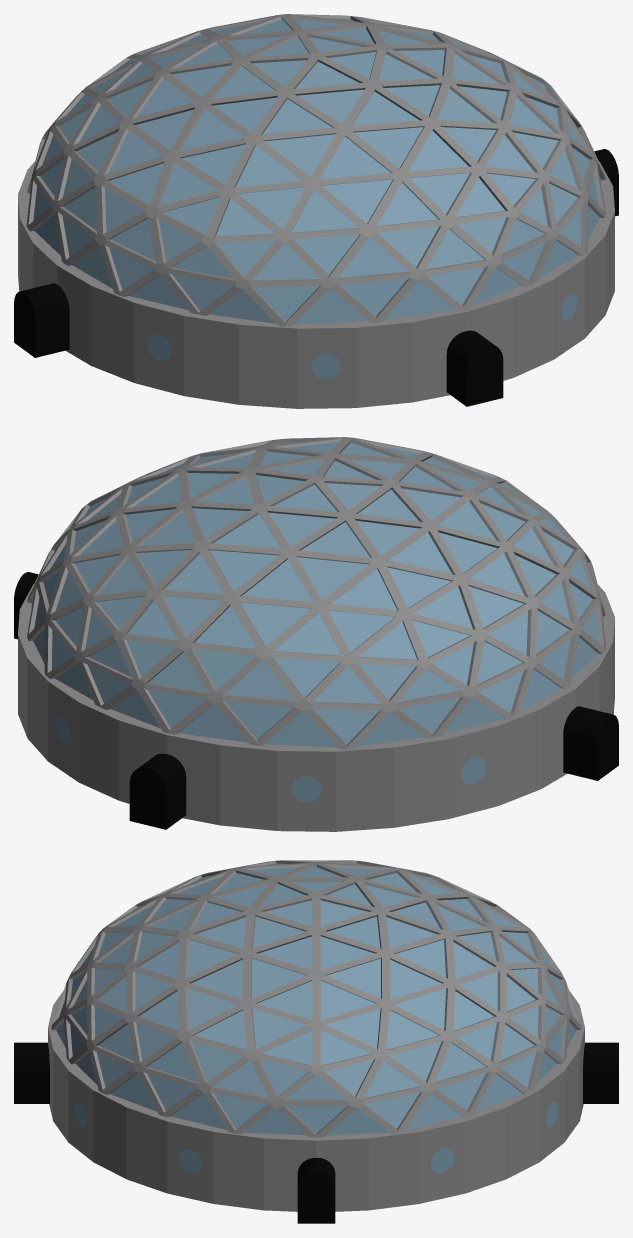
File: hab large 2.fbx
3 renders of one model, top to bottom at view 1: azimuth 30°, elevation 25°; view 2: azimuth 150°, elevation 25°; view 3: azimuth 270°, elevation 25°, orthographic. The views are drawn at different scales.
Visible parts, largest first — view 1: Dome glass, Dome frame, Cylinder, Cylinder.004, Cylinder.002, Cylinder.003; view 2: Dome glass, Dome frame, Cylinder, Cylinder.001, Cylinder.002, Cylinder.003; view 3: Dome glass, Dome frame, Cylinder, Cylinder.003, Cylinder.001, Cylinder.004.
Part boxes in pixels (left/top/right/bottom): Dome glass: left=33, top=18, right=601, bottom=324; Dome frame: left=26, top=14, right=605, bottom=326; Cylinder: left=18, top=161, right=614, bottom=408; Cylinder.004: left=446, top=330, right=503, bottom=406; Cylinder.002: left=14, top=283, right=69, bottom=357; Cylinder.003: left=594, top=149, right=618, bottom=216; Dome glass: left=31, top=441, right=599, bottom=747; Dome frame: left=27, top=437, right=606, bottom=749; Cylinder: left=18, top=584, right=614, bottom=831; Cylinder.001: left=129, top=753, right=186, bottom=829; Cylinder.002: left=563, top=706, right=618, bottom=780; Cylinder.003: left=14, top=572, right=38, bottom=639; Dome glass: left=56, top=863, right=576, bottom=1135; Dome frame: left=51, top=860, right=581, bottom=1137; Cylinder: left=48, top=990, right=584, bottom=1211; Cylinder.003: left=297, top=1158, right=335, bottom=1223; Cylinder.001: left=583, top=1042, right=618, bottom=1103; Cylinder.004: left=14, top=1042, right=49, bottom=1103.
Size of the model in its own units: 1600 by 594 by 1600.
